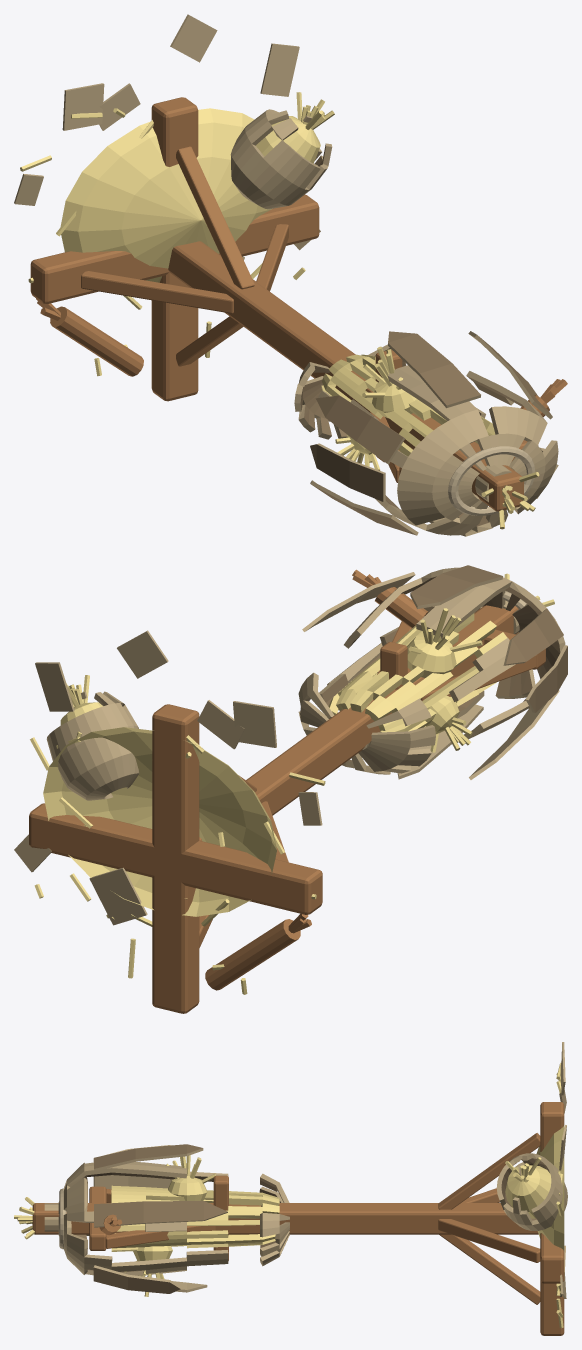
File: dummy3.obj
3 views of the same model, one above another, from view 1: azimuth 30°, elevation 25°; view 2: azimuth 150°, elevation 25°; view 3: azimuth 270°, elevation 25° (orthographic). The views are drawn at different scales.
Bounding box in the file's own units: 0.7912 × 0.9178 × 1.62.
